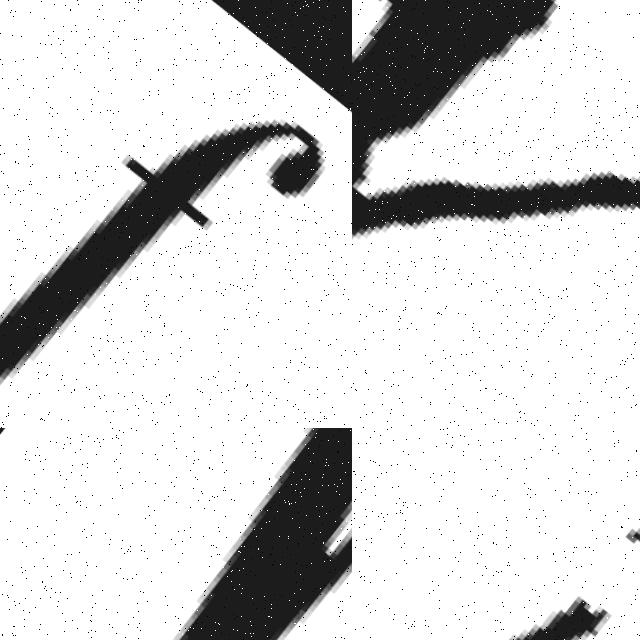F: (0, 0, 352, 428)
I: (352, 428, 640, 640)
V: (352, 0, 640, 232)
Y: (15, 428, 352, 640)
